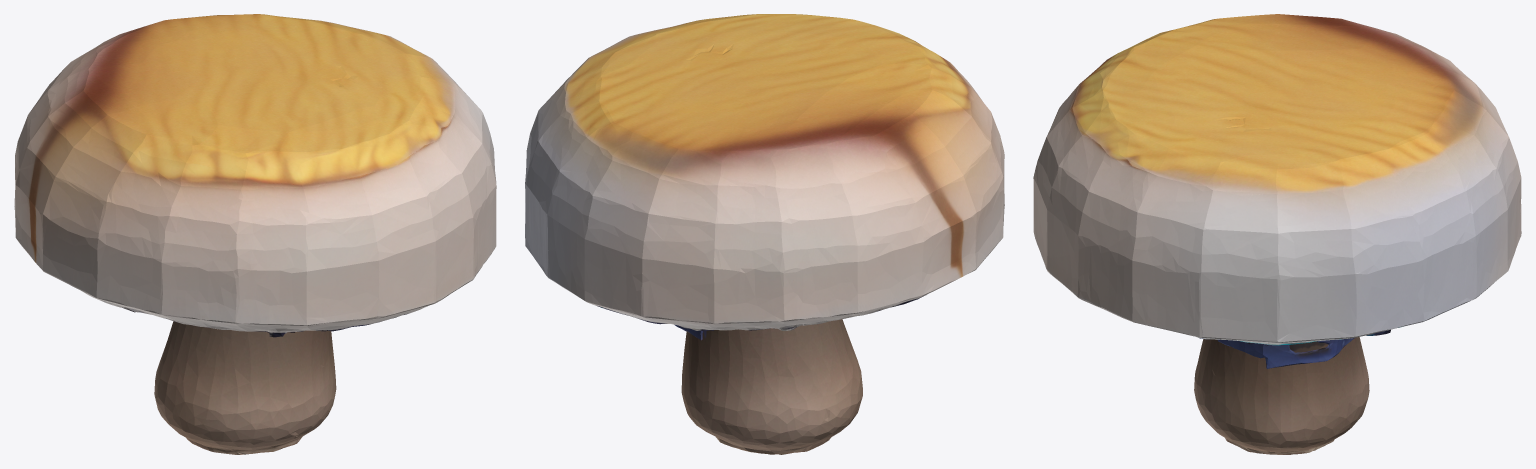
Rendered from image_0000_segmented.glb.
3 renders of one model, left to right at view 1: azimuth 30°, elevation 25°; view 2: azimuth 150°, elevation 25°; view 3: azimuth 270°, elevation 25°, orthographic.
Parts seen in each view (by area): view 1: tmpd4nhkkw6.ply; view 2: tmpd4nhkkw6.ply; view 3: tmpd4nhkkw6.ply.
Boxes of the visible parts, bbox=[...] form: tmpd4nhkkw6.ply: bbox=[14, 14, 496, 454]; tmpd4nhkkw6.ply: bbox=[525, 14, 1004, 454]; tmpd4nhkkw6.ply: bbox=[1033, 14, 1521, 454].
Bounding box in the file's own units: 1.99 × 1.59 × 2.
1 material, 1 textured.
